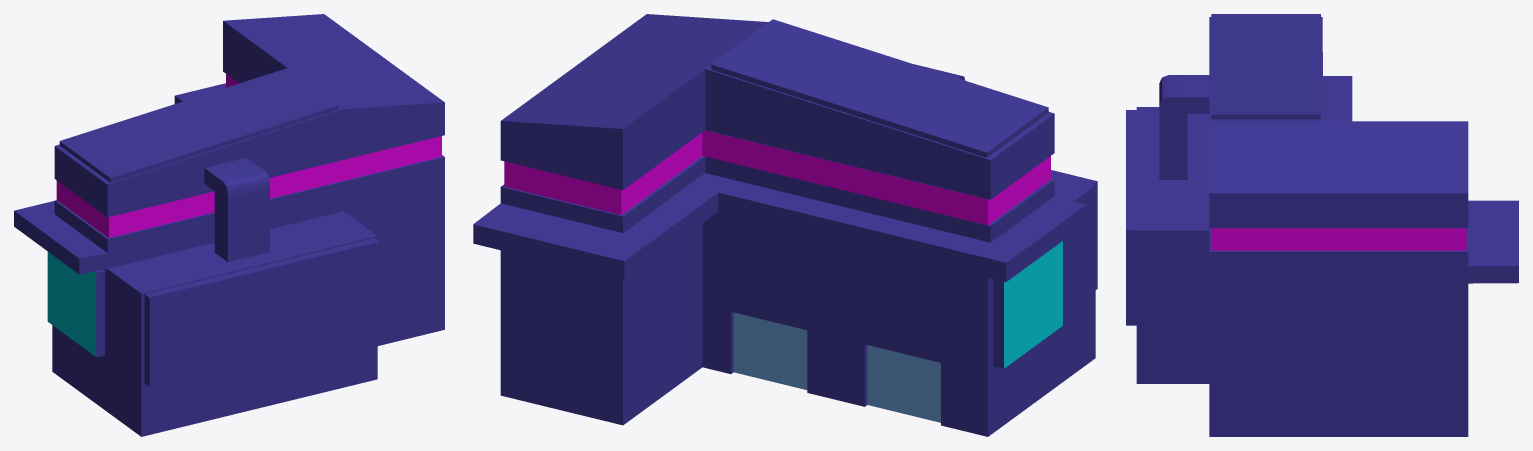
File: building2.fbx
The picture shows the model from 3 angles, left to right: view 1: azimuth 30°, elevation 25°; view 2: azimuth 150°, elevation 25°; view 3: azimuth 270°, elevation 25°; orthographic projection. The views are drawn at different scales.
Visible parts, largest first — view 1: building2; view 2: building2; view 3: building2.
Boxes of the visible parts, x1,y1,x2,y2 form: building2: (14, 14, 444, 436); building2: (473, 14, 1097, 436); building2: (1126, 14, 1518, 436).
Size of the model in its own units: 128 by 83.75 by 112.
